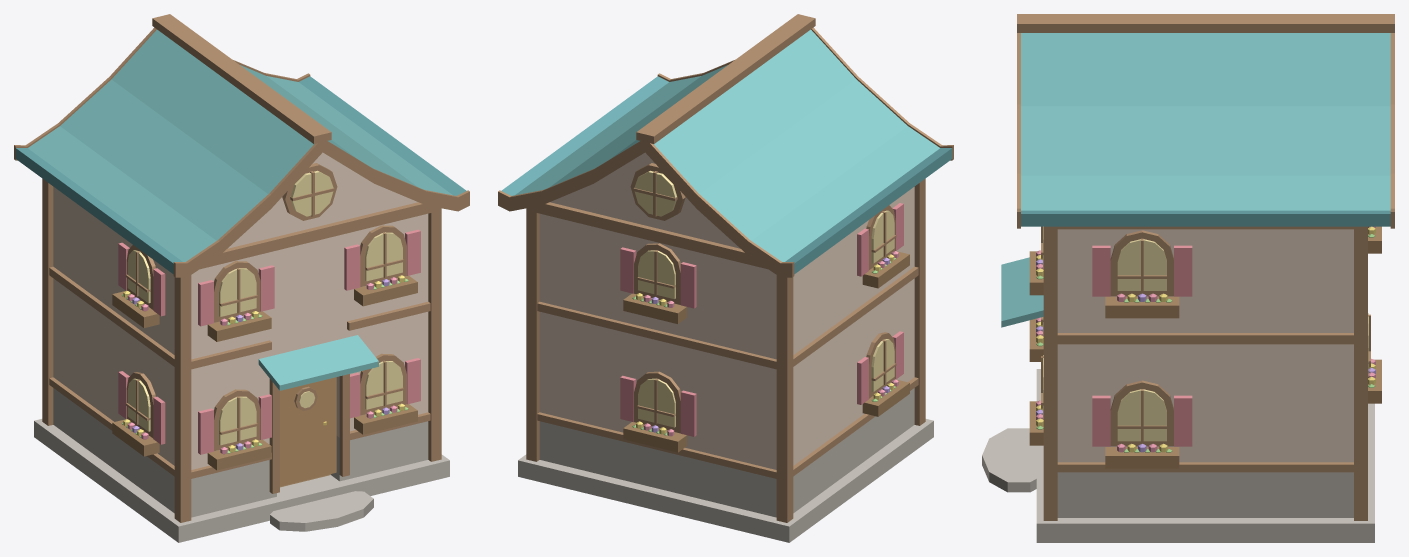
Rendered from townhouse_peach.glb.
3 views of the same model, side by side, from view 1: azimuth 30°, elevation 25°; view 2: azimuth 150°, elevation 25°; view 3: azimuth 270°, elevation 25° (orthographic). The views are drawn at different scales.
Parts seen in each view (by area): view 1: Player; view 2: Player; view 3: Player.
Part boxes in pixels (x1,y1,x2,y2): Player: [14, 14, 469, 542]; Player: [498, 14, 953, 542]; Player: [982, 14, 1394, 542].
Bounding box in the file's own units: 5.64 × 6.99 × 5.85.
